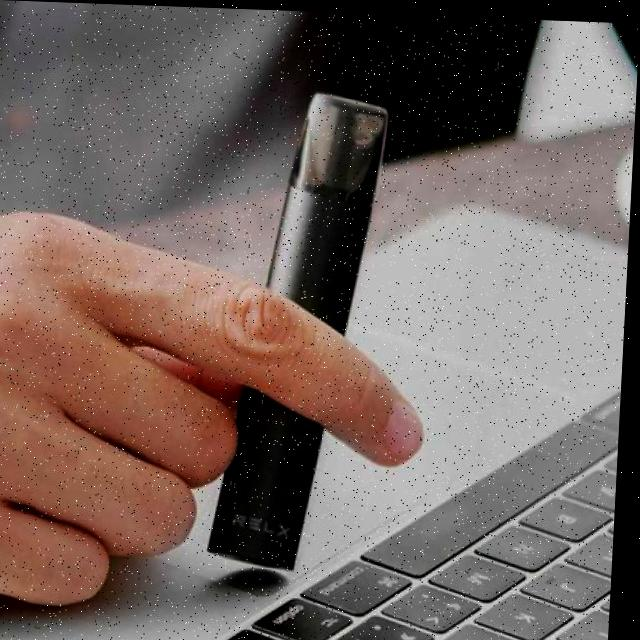vape: (213, 82, 393, 570)
